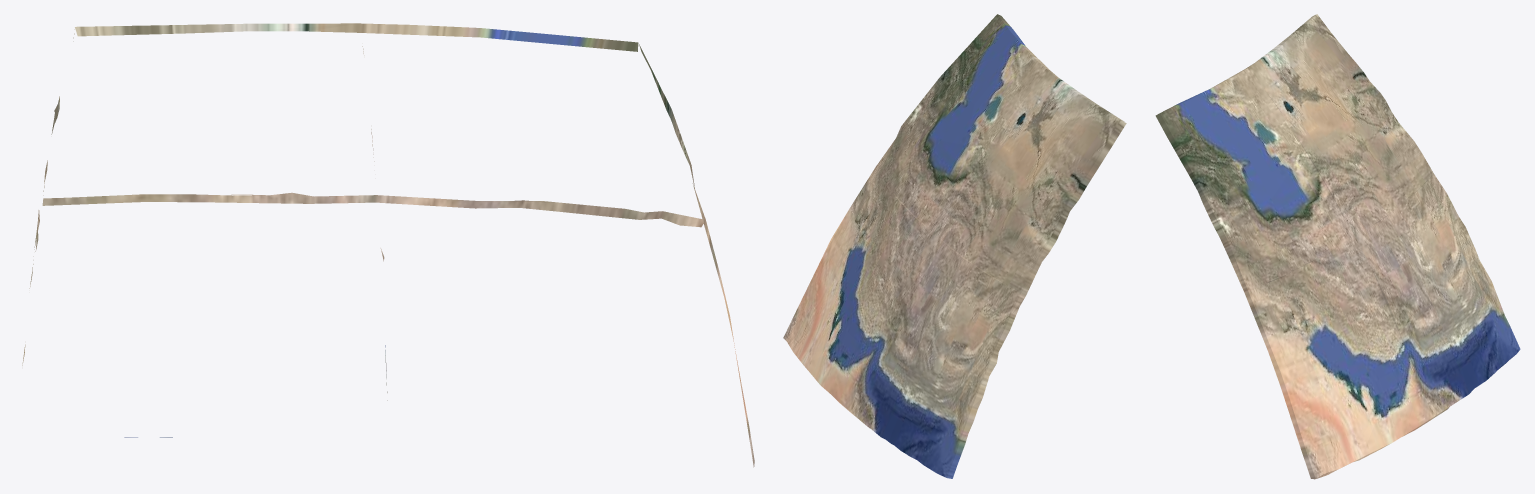
The picture shows the model from 3 angles, left to right: view 1: azimuth 30°, elevation 25°; view 2: azimuth 150°, elevation 25°; view 3: azimuth 270°, elevation 25°; orthographic projection. The views are drawn at different scales.
Bounding box in the file's own units: 2471626 × 2105950 × 2288915.
1 material, 1 textured.
